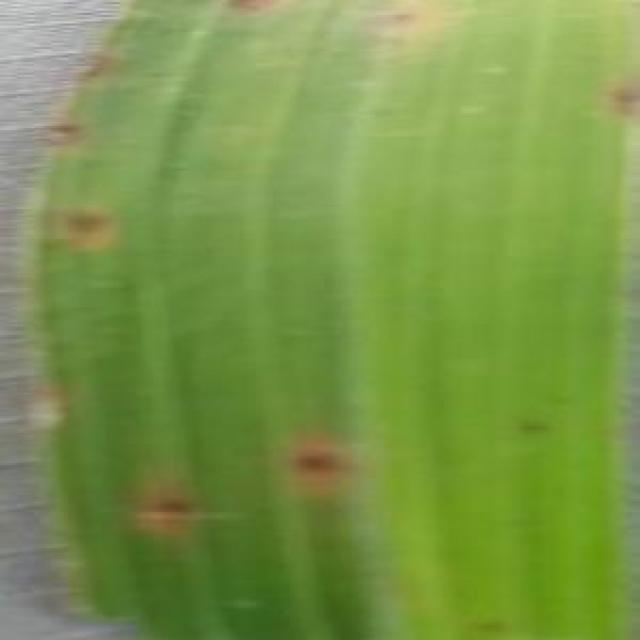brownspots: (142, 476, 214, 548), (282, 442, 358, 486), (66, 202, 115, 248), (610, 66, 640, 113), (51, 117, 90, 143)
